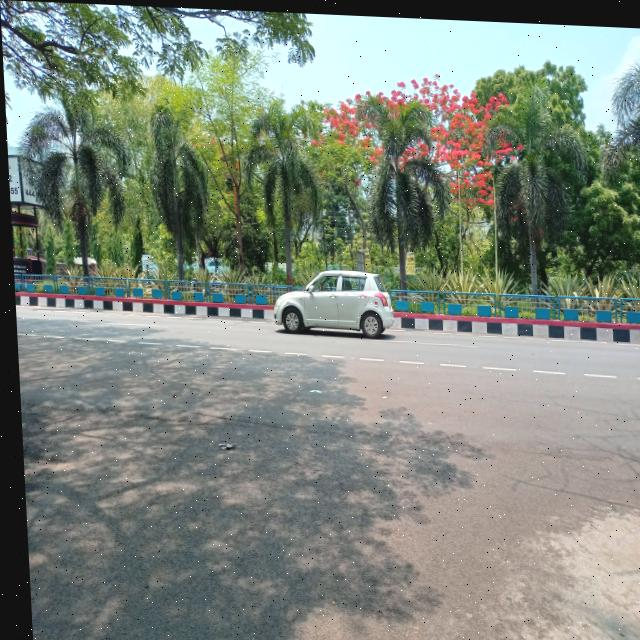car: (265, 257, 397, 341)
